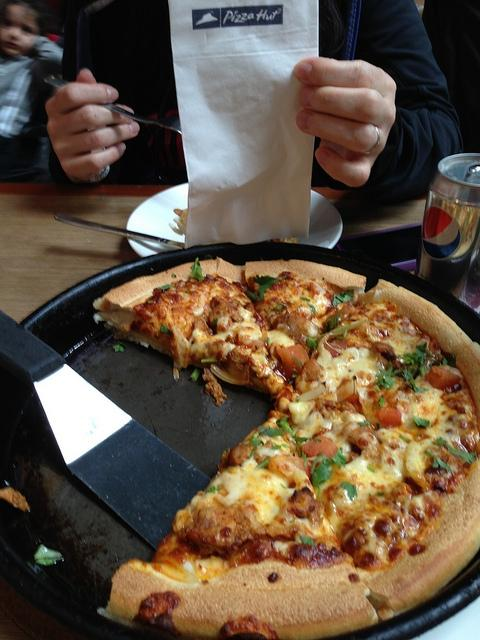tomato: (268, 456, 314, 482), (277, 344, 309, 378), (300, 434, 338, 462), (424, 366, 462, 391), (378, 404, 402, 428), (344, 392, 363, 414)
